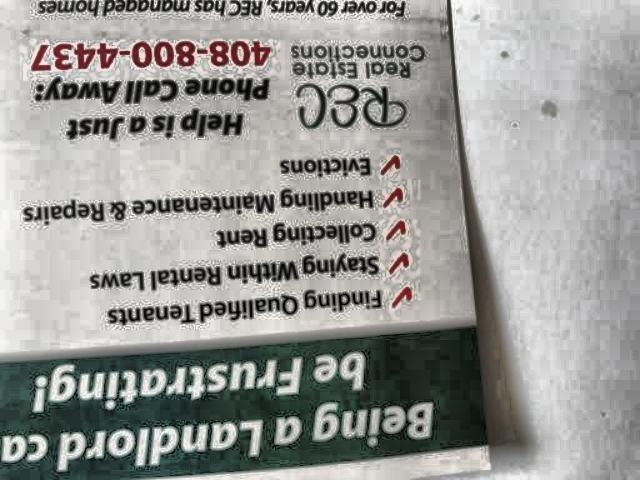Paper: (0, 0, 502, 480)
